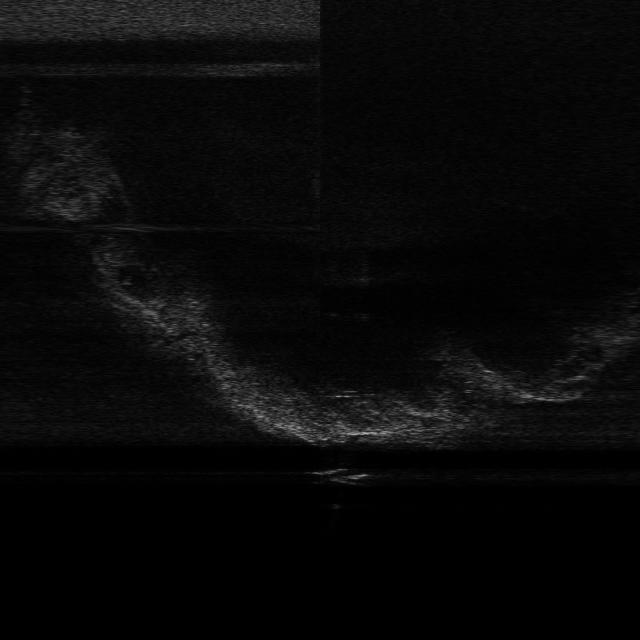plane: (304, 464, 377, 489)
